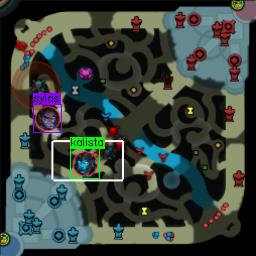kalista: (72, 150, 96, 175)
sylas: (35, 105, 59, 130)
